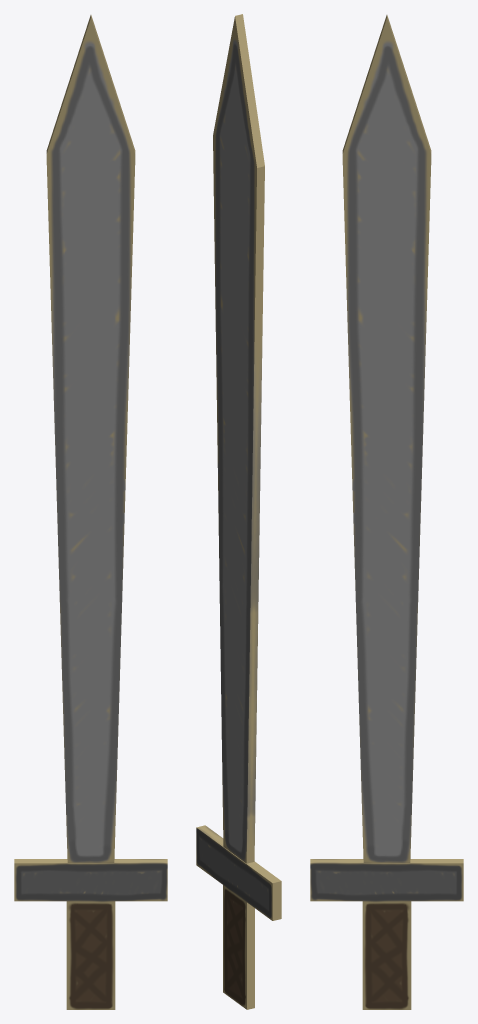
File: 1perun.glb
3 views of the same model, side by side, from view 1: azimuth 90°, elevation 25°; view 2: azimuth 210°, elevation 25°; view 3: azimuth 270°, elevation 25° (orthographic).
Visible parts, largest first — view 1: Cube.002; view 2: Cube.002; view 3: Cube.002.
Boxes of the visible parts, x1=… form: Cube.002: x1=14, y1=15, x2=167, y2=1009; Cube.002: x1=196, y1=14, x2=281, y2=1009; Cube.002: x1=310, y1=15, x2=463, y2=1009.
Bounding box in the file's own units: 0.1192 × 12.46 × 1.75.
1 material, 1 textured.
